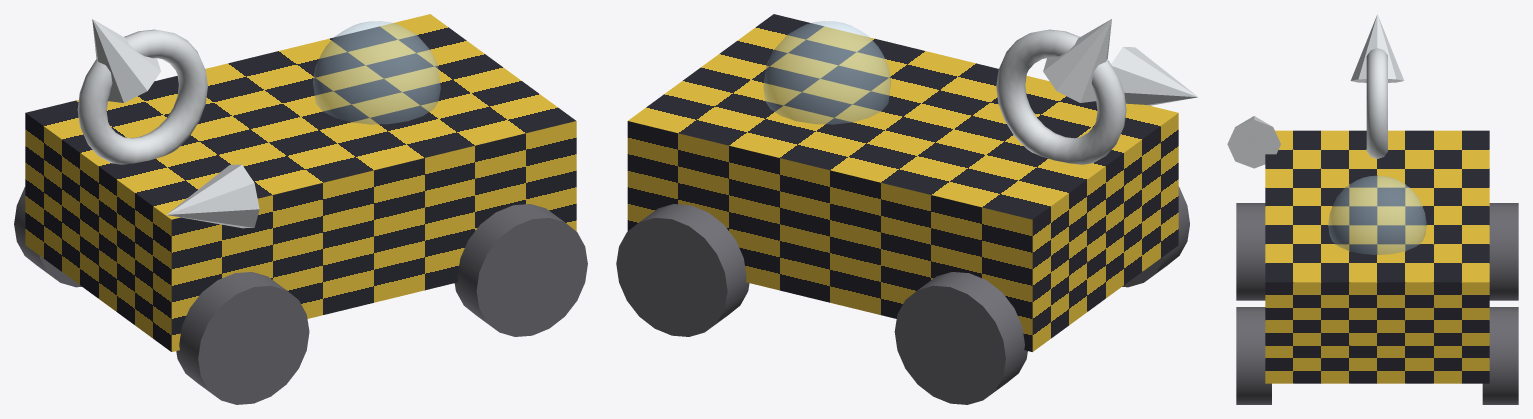
The picture shows the model from 3 angles, left to right: view 1: azimuth 30°, elevation 25°; view 2: azimuth 150°, elevation 25°; view 3: azimuth 270°, elevation 25°; orthographic projection. The views are drawn at different scales.
Visible parts, largest first — view 1: body, wheel.fl, wheel.bl, dome, ring, lamp, spike, wheel.br; view 2: body, wheel.fr, wheel.br, dome, ring, spike, lamp, wheel.bl; view 3: body, dome, wheel.fr, wheel.fl, wheel.bl, wheel.br, ring, lamp, spike.
Boxes of the visible parts, <box> form: body: <box>25,14,576,351</box>; wheel.fl: <box>454,204,587,336</box>; wheel.bl: <box>176,272,309,404</box>; dome: <box>313,21,440,124</box>; ring: <box>77,29,207,164</box>; lamp: <box>166,164,259,228</box>; spike: <box>92,19,160,102</box>; wheel.br: <box>14,187,81,287</box>; body: <box>627,14,1178,351</box>; wheel.fr: <box>616,204,749,336</box>; wheel.br: <box>894,272,1027,404</box>; dome: <box>763,21,890,124</box>; ring: <box>996,29,1126,164</box>; spike: <box>1043,19,1111,102</box>; lamp: <box>1111,47,1198,105</box>; wheel.bl: <box>1122,186,1189,287</box>; body: <box>1265,130,1489,383</box>; dome: <box>1328,175,1426,254</box>; wheel.fr: <box>1482,307,1518,404</box>; wheel.fl: <box>1236,307,1271,404</box>; wheel.bl: <box>1236,203,1265,300</box>; wheel.br: <box>1489,203,1518,300</box>; ring: <box>1366,48,1387,158</box>; lamp: <box>1227,116,1280,168</box>; spike: <box>1350,14,1404,82</box>.
Size of the model in its own units: 1.67 by 1.26 by 1.3.
4 materials, 1 textured.
